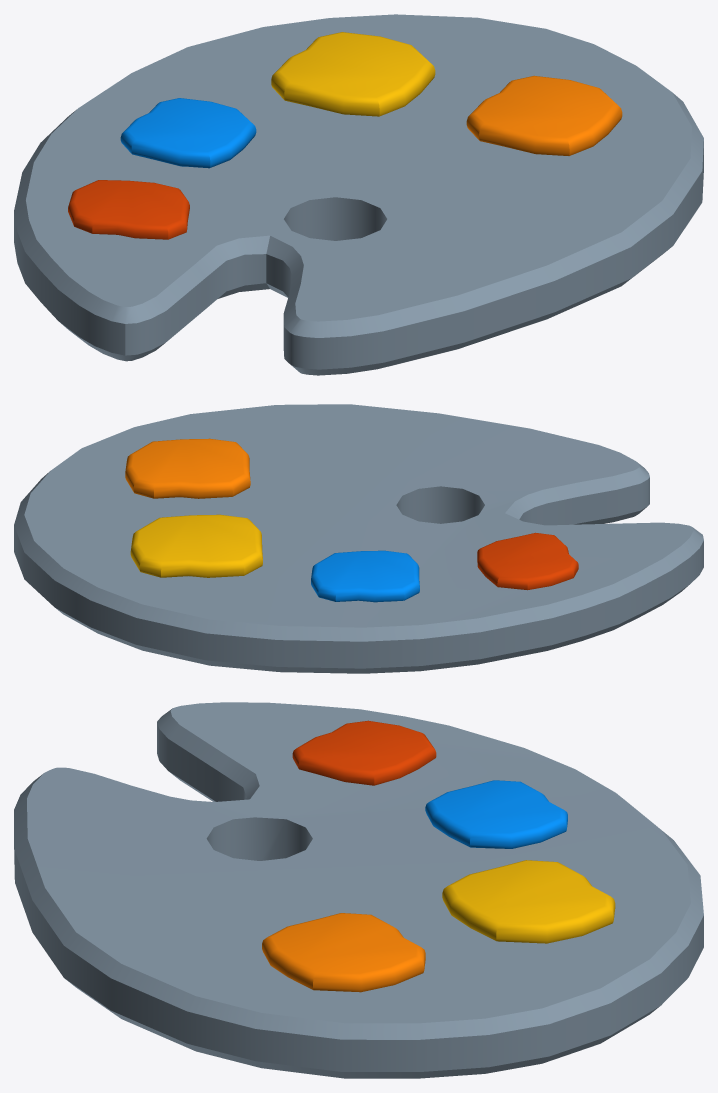
File: Paint Color.fbx
3 renders of one model, top to bottom at view 1: azimuth 30°, elevation 25°; view 2: azimuth 150°, elevation 25°; view 3: azimuth 270°, elevation 25°, orthographic. The views are drawn at different scales.
Visible parts, largest first — view 1: Paint Color; view 2: Paint Color; view 3: Paint Color.
Part boxes in pixels (x1,y1,x2,y2): Paint Color: [14, 14, 703, 375]; Paint Color: [14, 404, 703, 673]; Paint Color: [14, 702, 703, 1078].
Bounding box in the file's own units: 0.2857 × 0.0288 × 0.2516.
